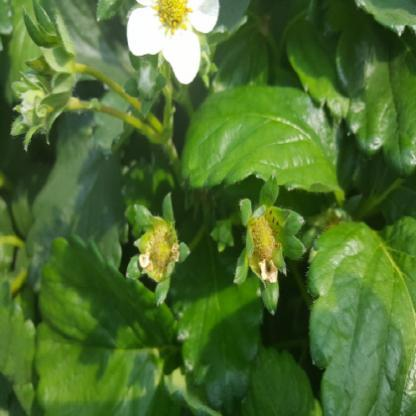Strawberry_Blossom_Blight: (249, 212, 282, 272), (144, 225, 177, 280)
